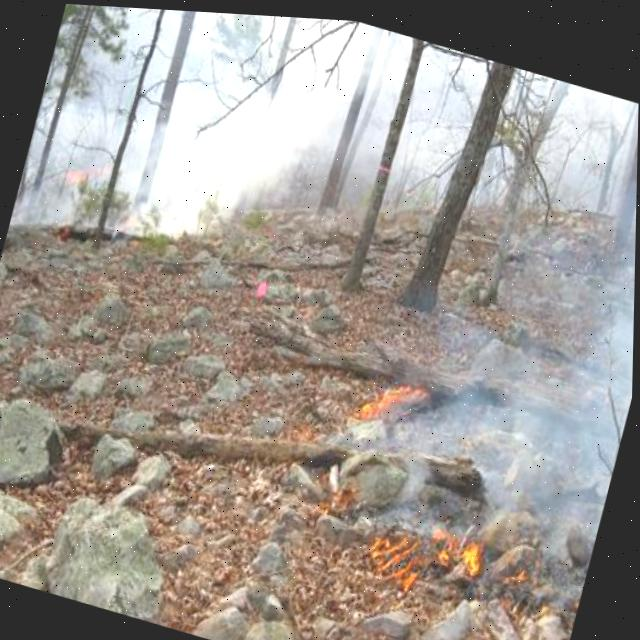fire: (319, 506, 571, 640), (336, 384, 488, 515), (571, 597, 581, 610)
smoke: (287, 36, 639, 553), (125, 9, 411, 263), (10, 6, 159, 224)
